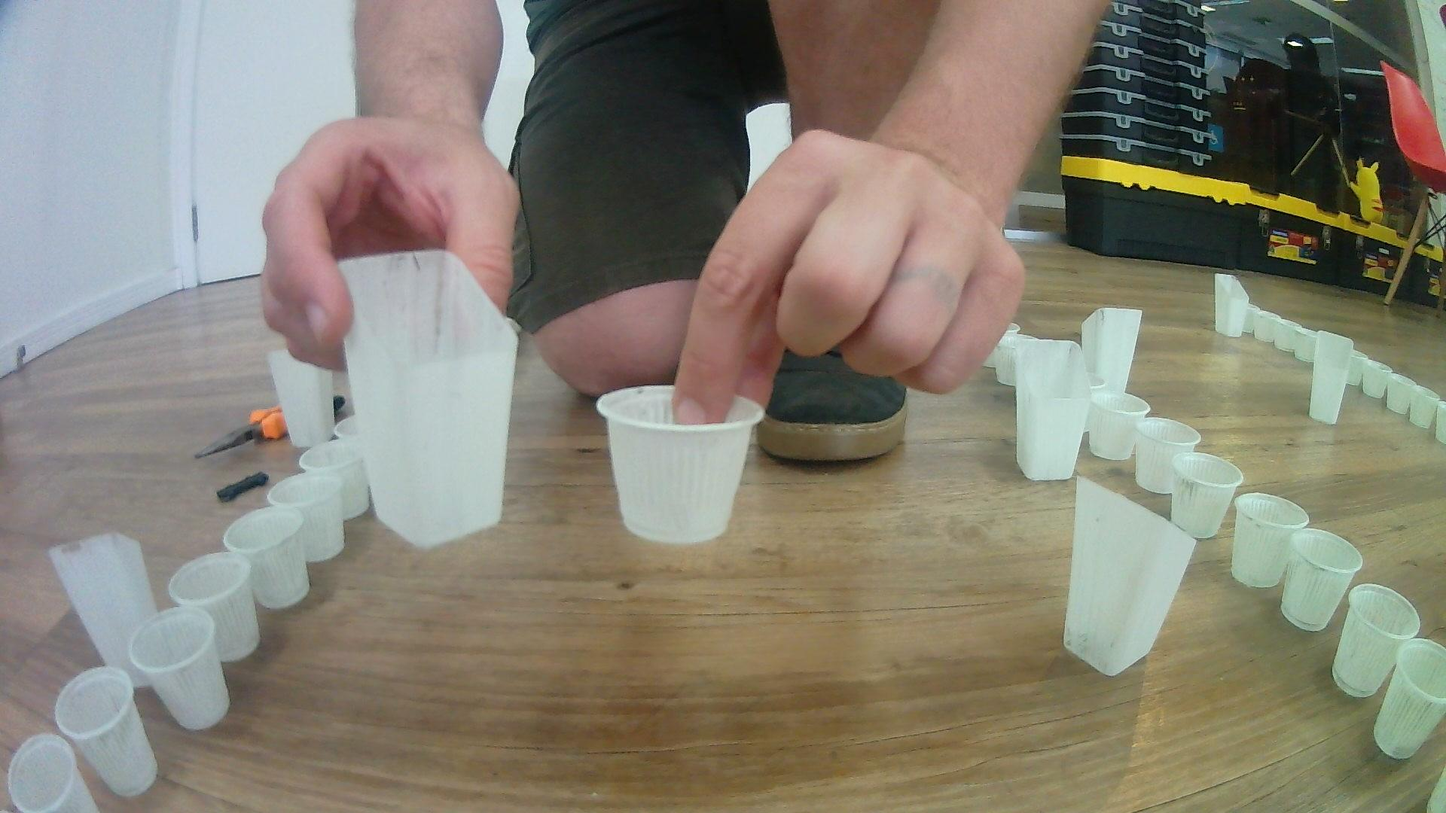erva_daninha: (334, 247, 523, 547), (1062, 474, 1198, 678), (49, 532, 161, 690), (1011, 337, 1092, 482), (268, 349, 343, 449), (1081, 305, 1143, 395), (1309, 328, 1356, 425), (1213, 271, 1249, 338)
planta: (596, 384, 764, 545), (53, 665, 160, 798), (127, 607, 230, 731), (167, 551, 261, 662), (1331, 583, 1420, 698), (222, 506, 310, 610), (1372, 637, 1446, 760), (1280, 527, 1364, 632), (6, 733, 102, 813), (1231, 492, 1310, 589), (267, 471, 346, 563), (1170, 452, 1245, 540), (297, 439, 372, 522), (1135, 417, 1203, 495), (1089, 391, 1152, 461), (995, 333, 1044, 387), (981, 323, 1023, 369), (1409, 387, 1440, 429), (1386, 372, 1417, 413), (1363, 358, 1393, 398), (1243, 305, 1271, 342), (1345, 349, 1369, 389), (1263, 314, 1288, 347), (1294, 329, 1318, 362), (1280, 322, 1303, 353), (1433, 401, 1446, 444)
